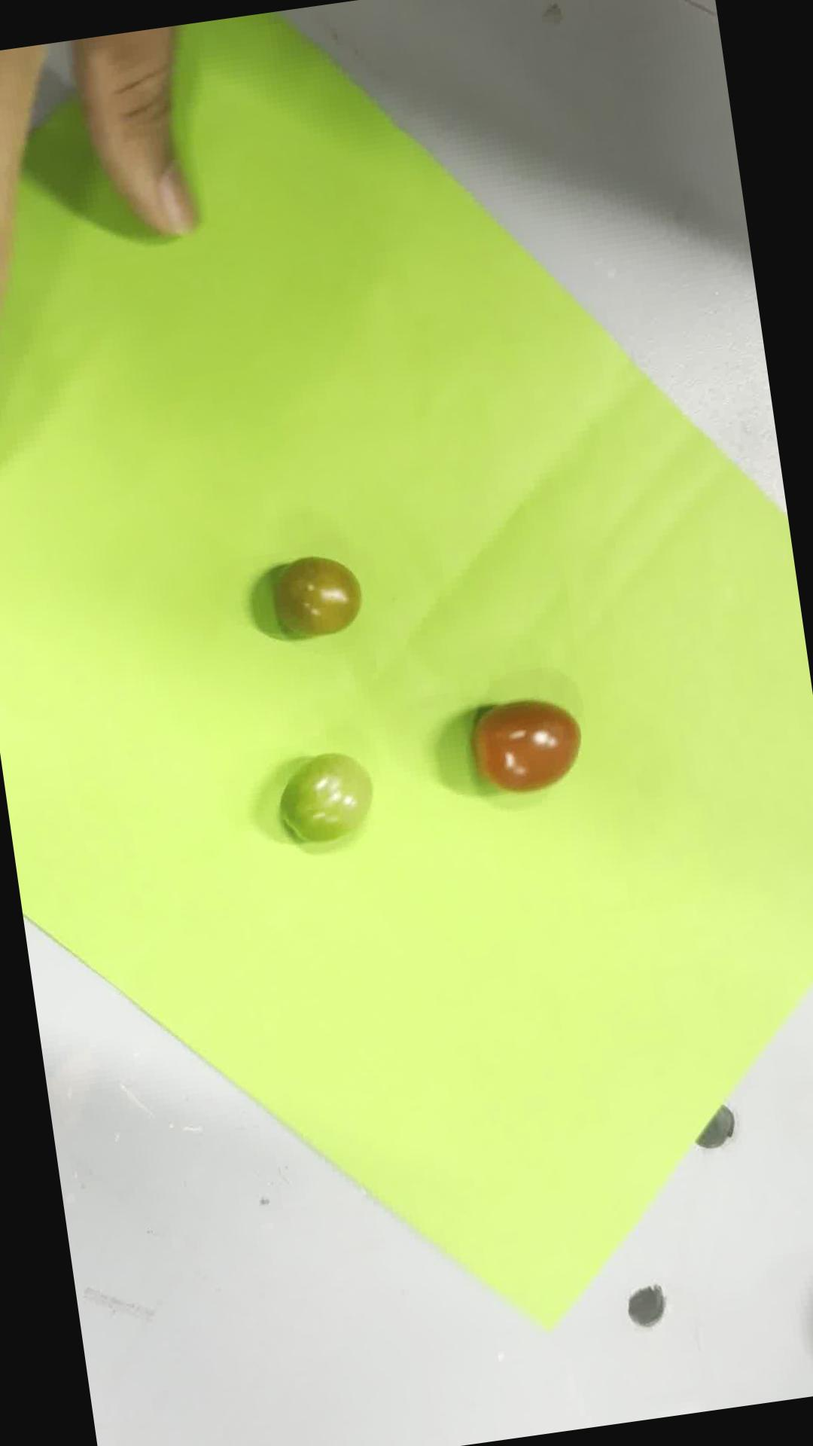green_cherry_tomato: (280, 753, 371, 843)
red_cherry_tomato: (473, 701, 579, 791)
yellow_cherry_tomato: (274, 556, 361, 636)
